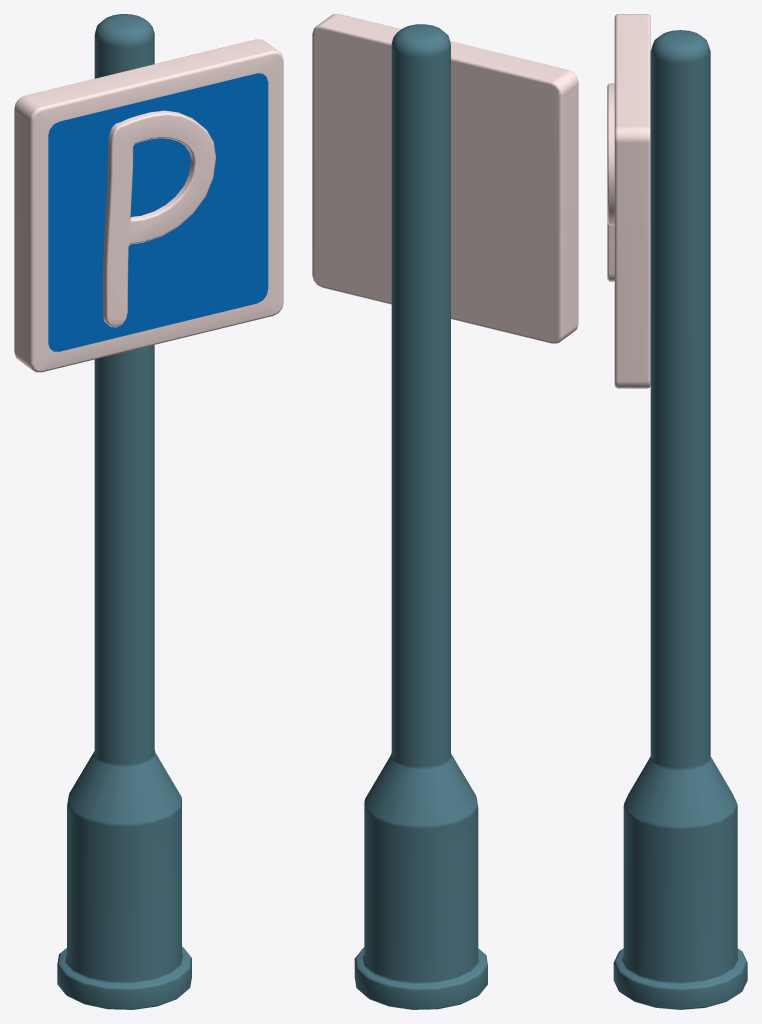
The model's file is City_8_Sign_Parking_1.glb.
3 views of the same model, side by side, from view 1: azimuth 30°, elevation 25°; view 2: azimuth 150°, elevation 25°; view 3: azimuth 270°, elevation 25° (orthographic).
Parts seen in each view (by area): view 1: City_8_Sign_Parking_1; view 2: City_8_Sign_Parking_1; view 3: City_8_Sign_Parking_1.
Part boxes in pixels (x1=…): City_8_Sign_Parking_1: x1=14, y1=14, x2=283, y2=1009; City_8_Sign_Parking_1: x1=312, y1=14, x2=578, y2=1009; City_8_Sign_Parking_1: x1=607, y1=14, x2=747, y2=1009.
Bounding box in the file's own units: 1.14 × 4.13 × 0.555.
1 material, 1 textured.
